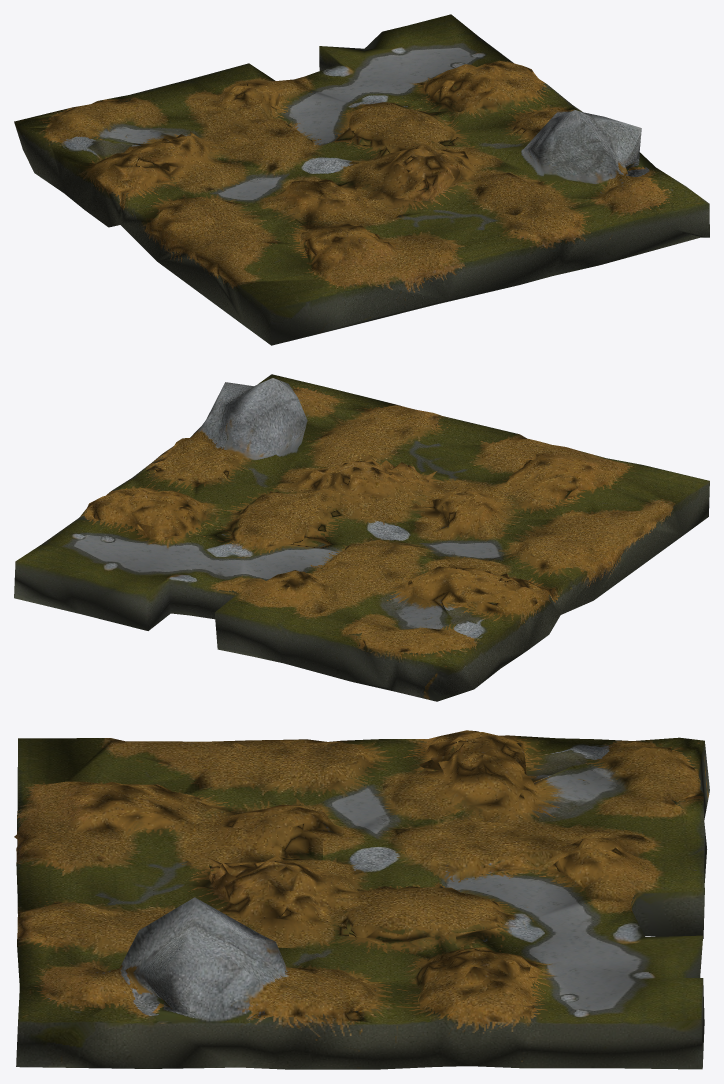
File: terrain_marsh.glb
The picture shows the model from 3 angles, top to bottom: view 1: azimuth 30°, elevation 25°; view 2: azimuth 150°, elevation 25°; view 3: azimuth 270°, elevation 25°; orthographic projection. The views are drawn at different scales.
Visible parts, largest first — view 1: Mesh_0.001; view 2: Mesh_0.001; view 3: Mesh_0.001.
Boxes of the visible parts, box(x1,y1,x2,y2) form: Mesh_0.001: box(14, 14, 709, 345); Mesh_0.001: box(14, 374, 709, 701); Mesh_0.001: box(14, 730, 709, 1069).
Size of the model in its own units: 1.83 by 0.3853 by 1.86.
1 material, 1 textured.
